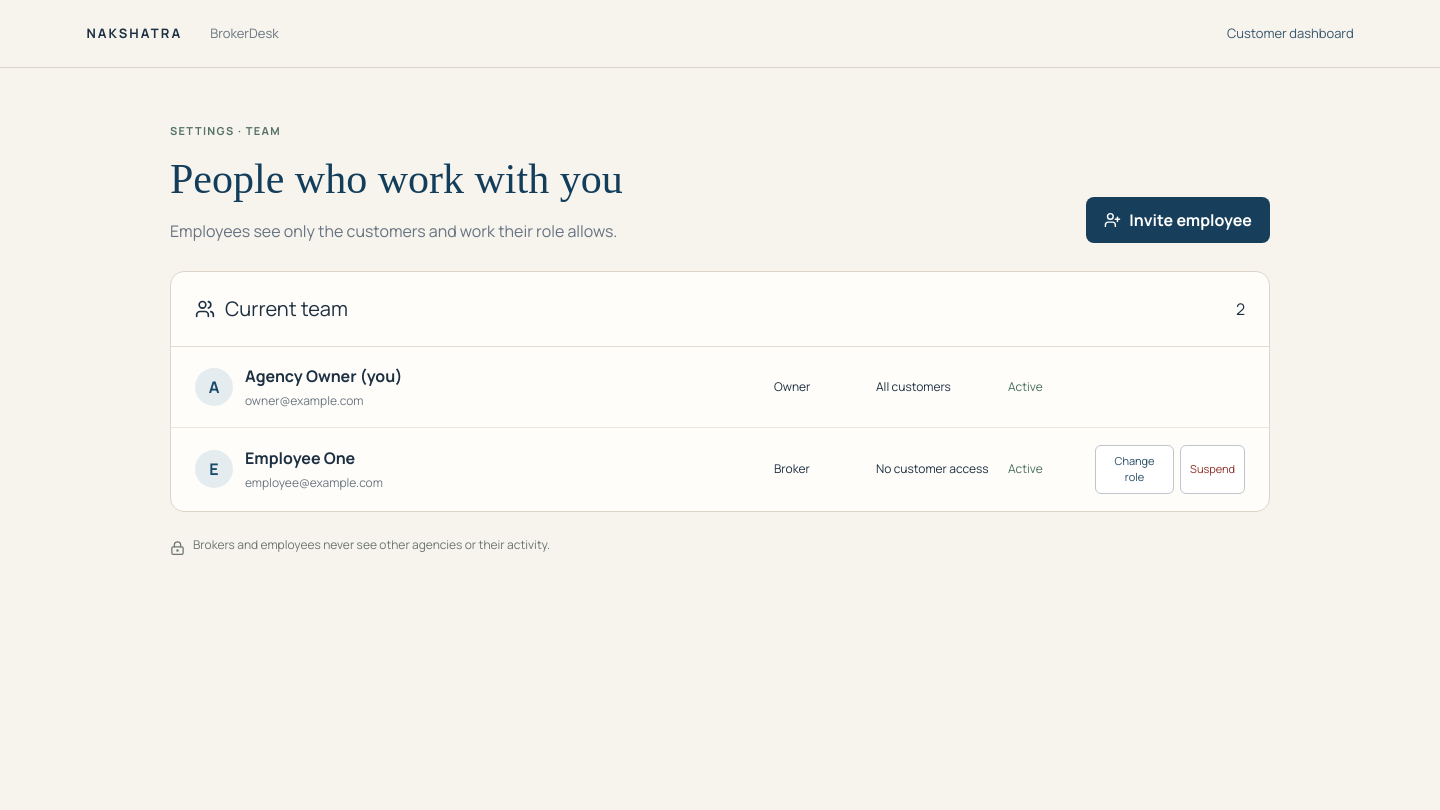
Test: BrokerDesk team settings › explains the security check before an invitation
expect the text "Agency Owner (you)" is shown: met, box [245, 364, 402, 386]
Click the button "Invite employee": (1178, 220) [1086, 196, 1270, 242]
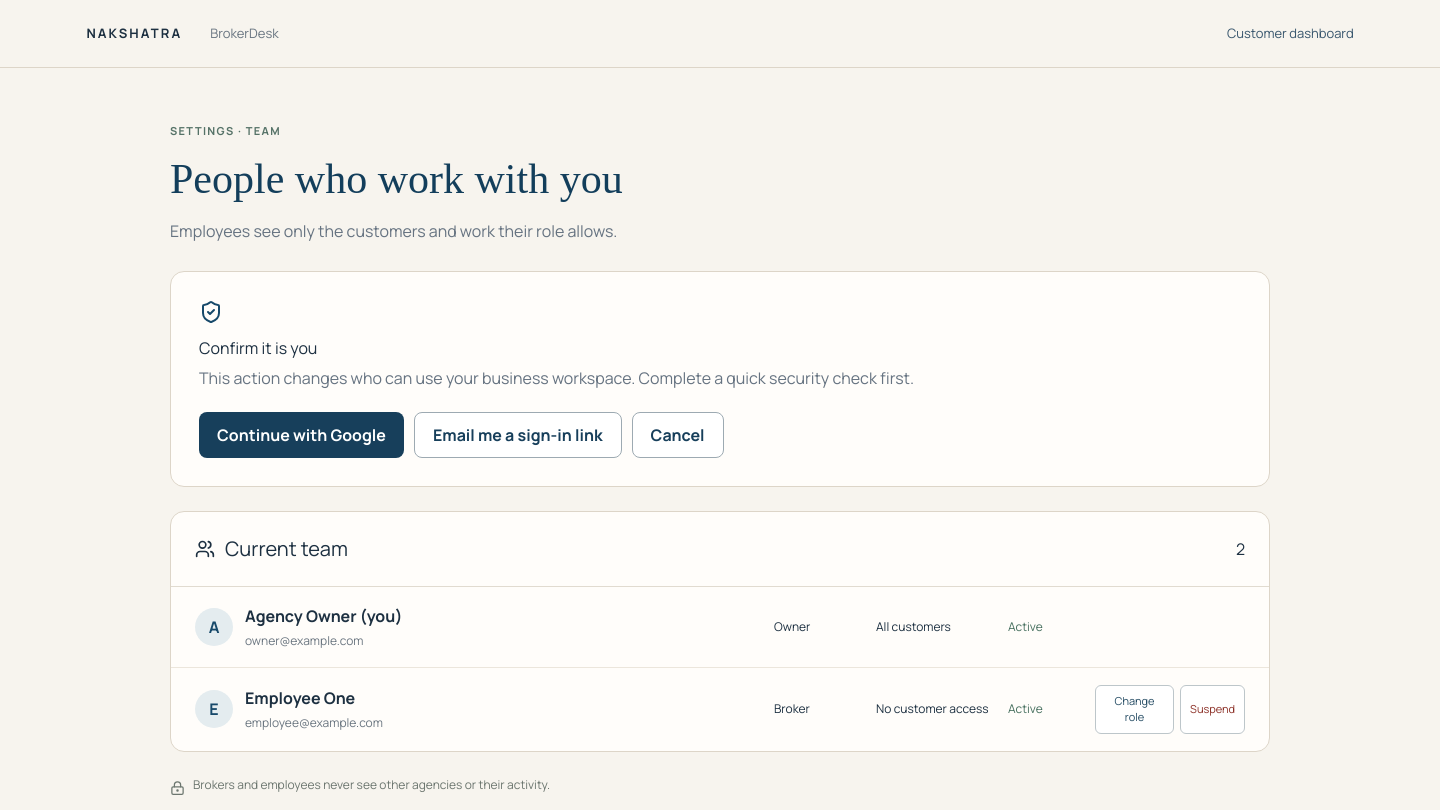
Click the button "Email me a sign-in link": (518, 434) [414, 412, 622, 458]
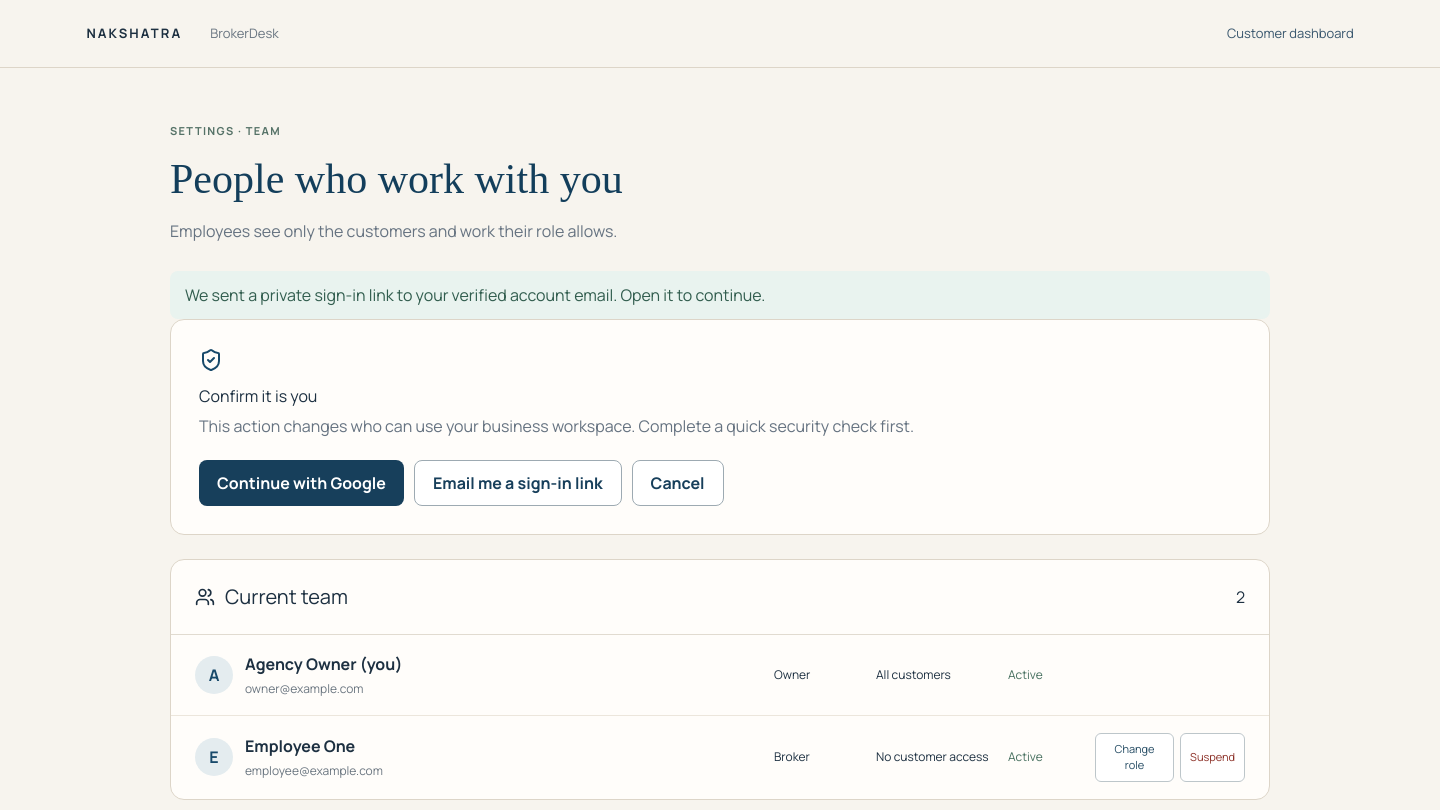
expect the text "sent a private sign-in link" is shown: met, box [185, 284, 765, 306]
